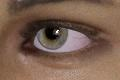eye: (38, 27, 68, 50)
